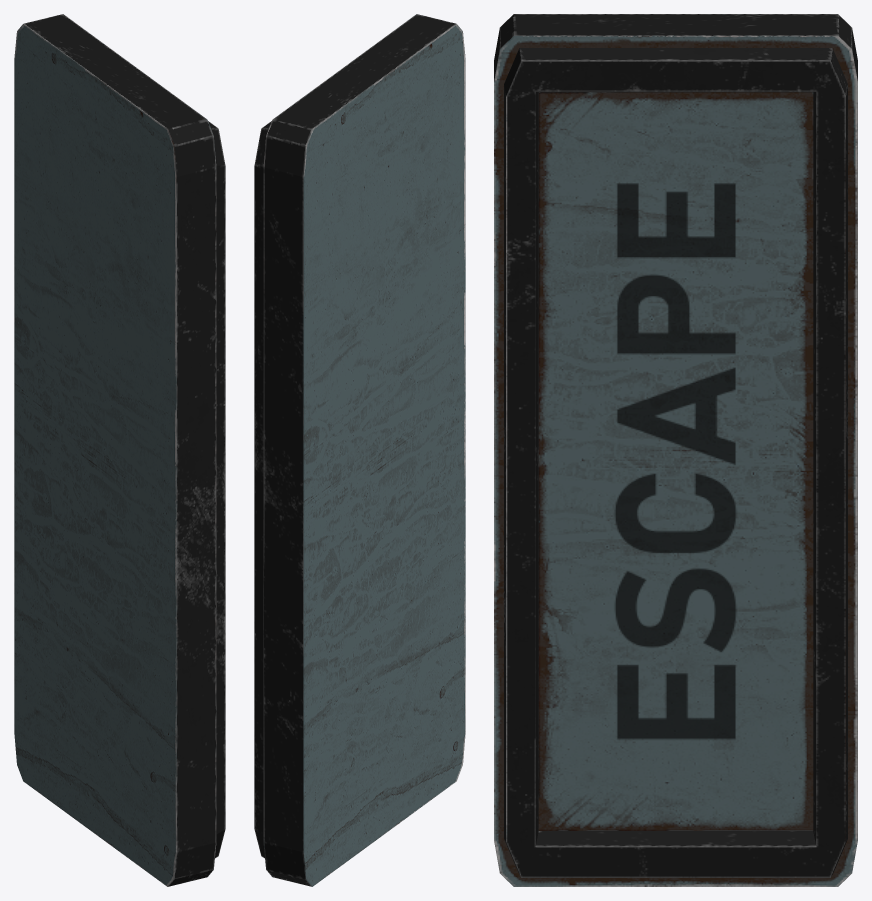
File: Escape.gltf
3 renders of one model, left to right at view 1: azimuth 30°, elevation 25°; view 2: azimuth 150°, elevation 25°; view 3: azimuth 270°, elevation 25°, orthographic. The views are drawn at different scales.
Visible parts, largest first — view 1: Cube.006; view 2: Cube.006; view 3: Cube.006.
Boxes of the visible parts, x1=… form: Cube.006: x1=14, y1=14, x2=225, y2=886; Cube.006: x1=254, y1=14, x2=465, y2=886; Cube.006: x1=494, y1=14, x2=857, y2=886.
Bounding box in the file's own units: 0.1759 × 2.33 × 0.9039.
Materials: 1 (1 with a texture image).
